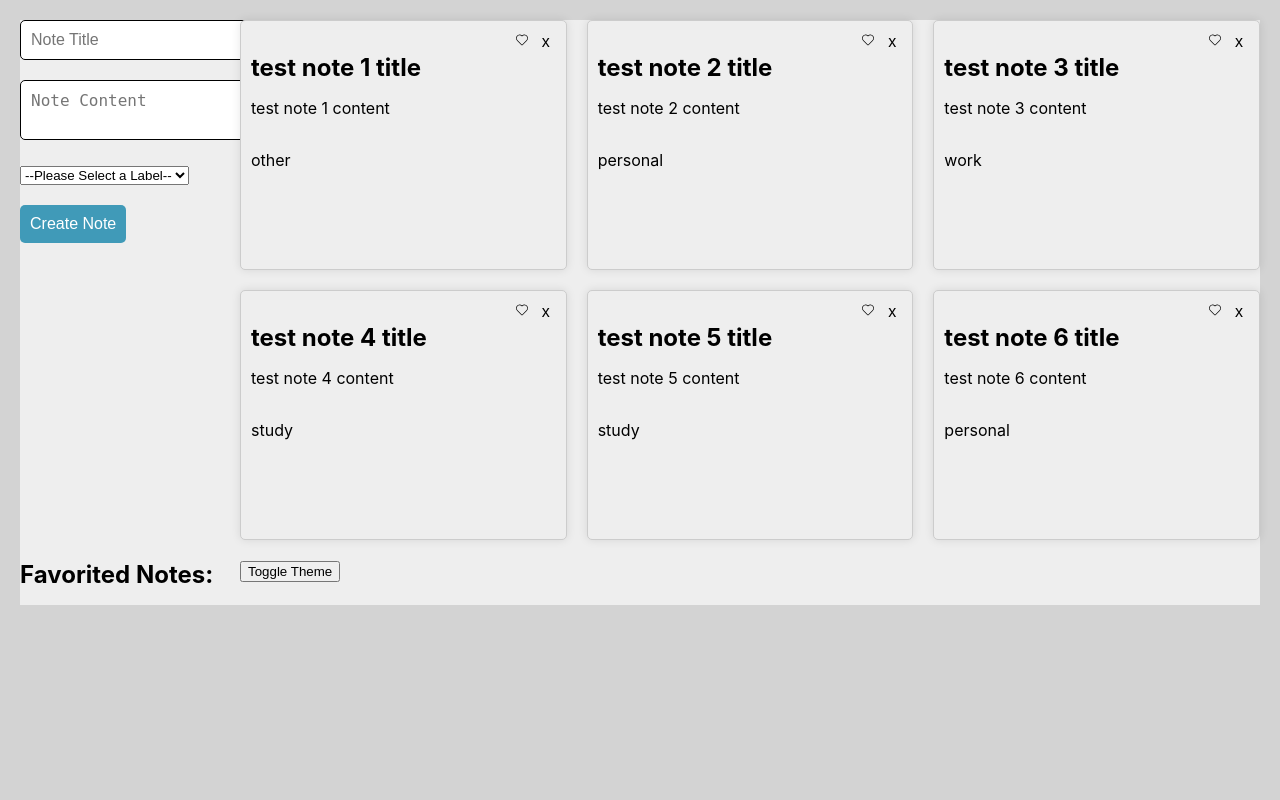
Test: Create and Delete a Note › Deleteing Note
Expected: the number of elements with test id "note-grid" is 6, [240, 20, 567, 270]; [587, 20, 913, 270]; [933, 20, 1260, 270]; [240, 290, 567, 540]; [587, 290, 913, 540]; [933, 290, 1260, 540]
Click the 1st button "x" at (546, 42), box [536, 31, 556, 53]
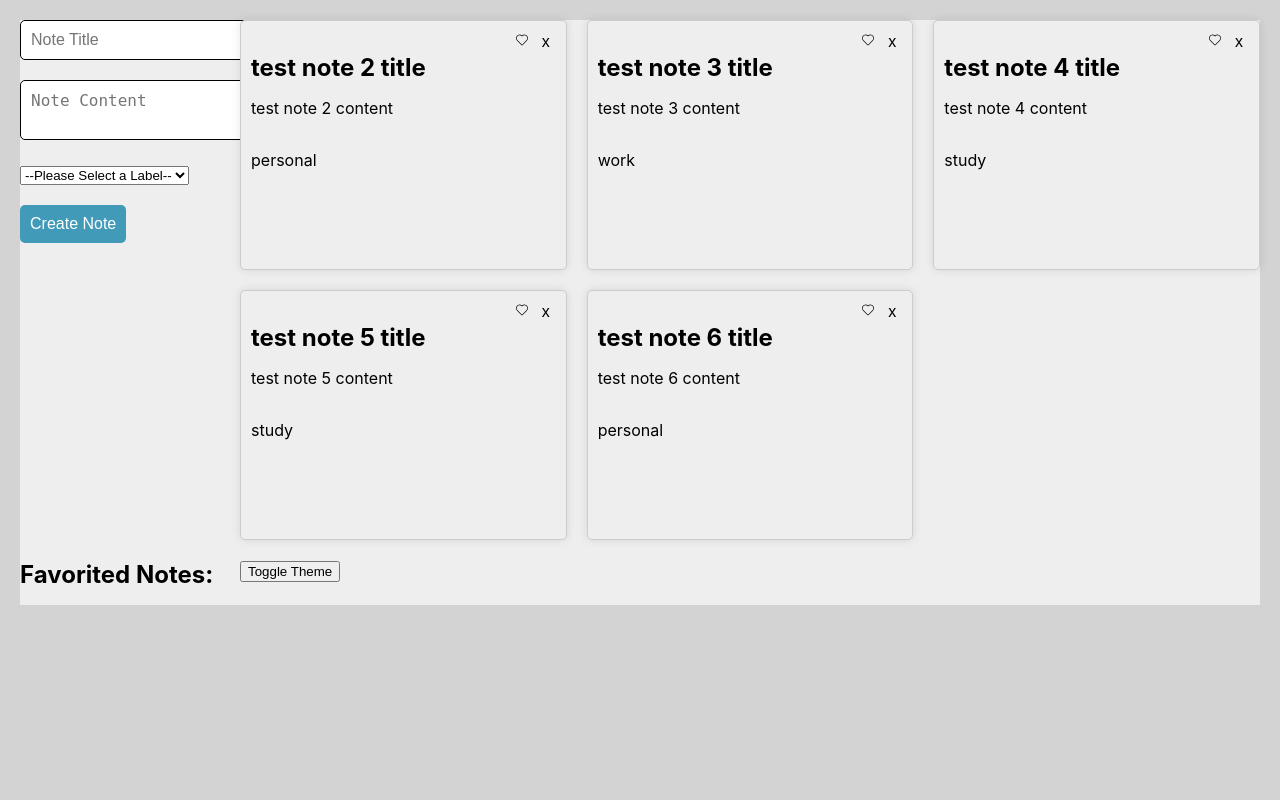
Expected: the heading "test note 1 title" is gone
Expected: the number of elements with test id "note-grid" is 5, [240, 20, 567, 270]; [587, 20, 913, 270]; [933, 20, 1260, 270]; [240, 290, 567, 540]; [587, 290, 913, 540]
